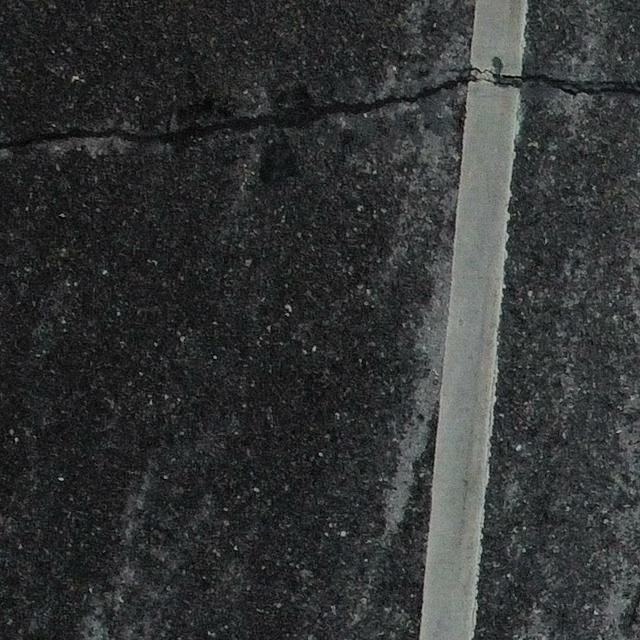TransverseCrack: (1, 67, 640, 150)
